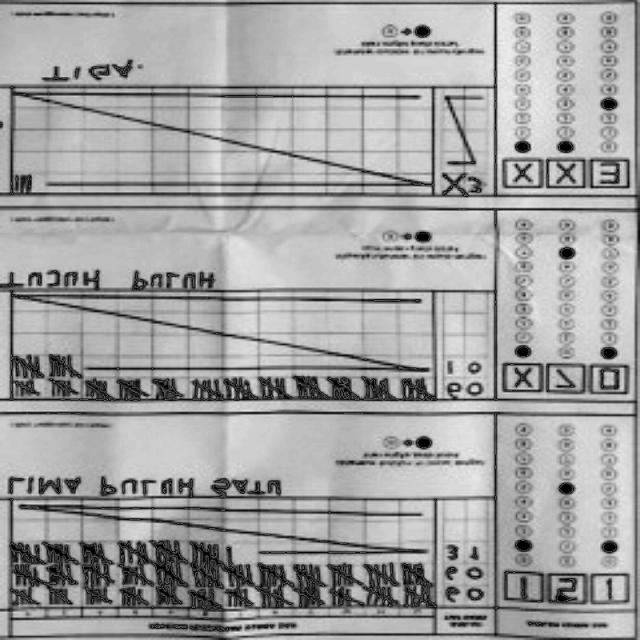Suara: (498, 569, 632, 608), (498, 360, 632, 399), (500, 156, 634, 194)
